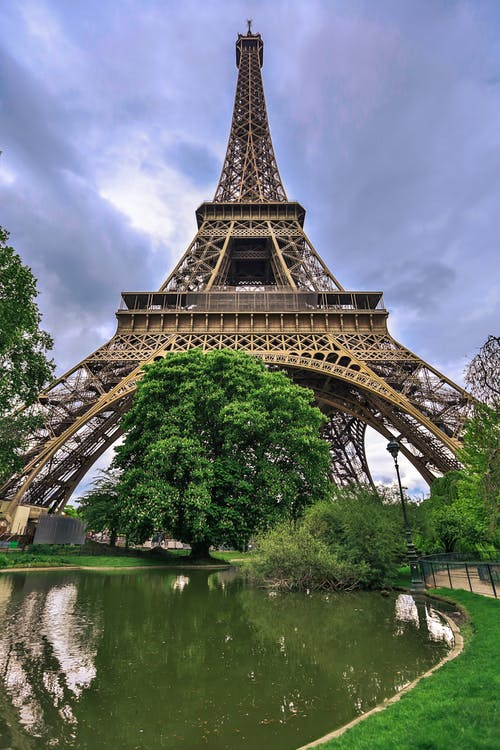eiffel tower: (18, 8, 491, 540)
